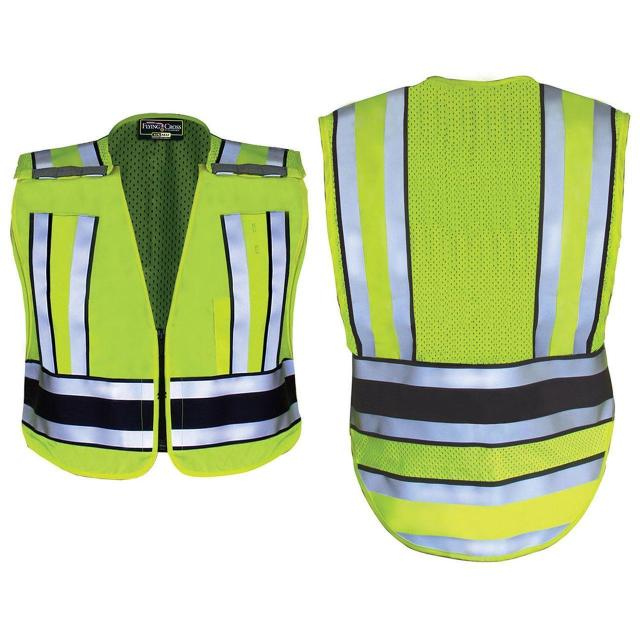Vest: (315, 75, 631, 563), (9, 105, 309, 483)
